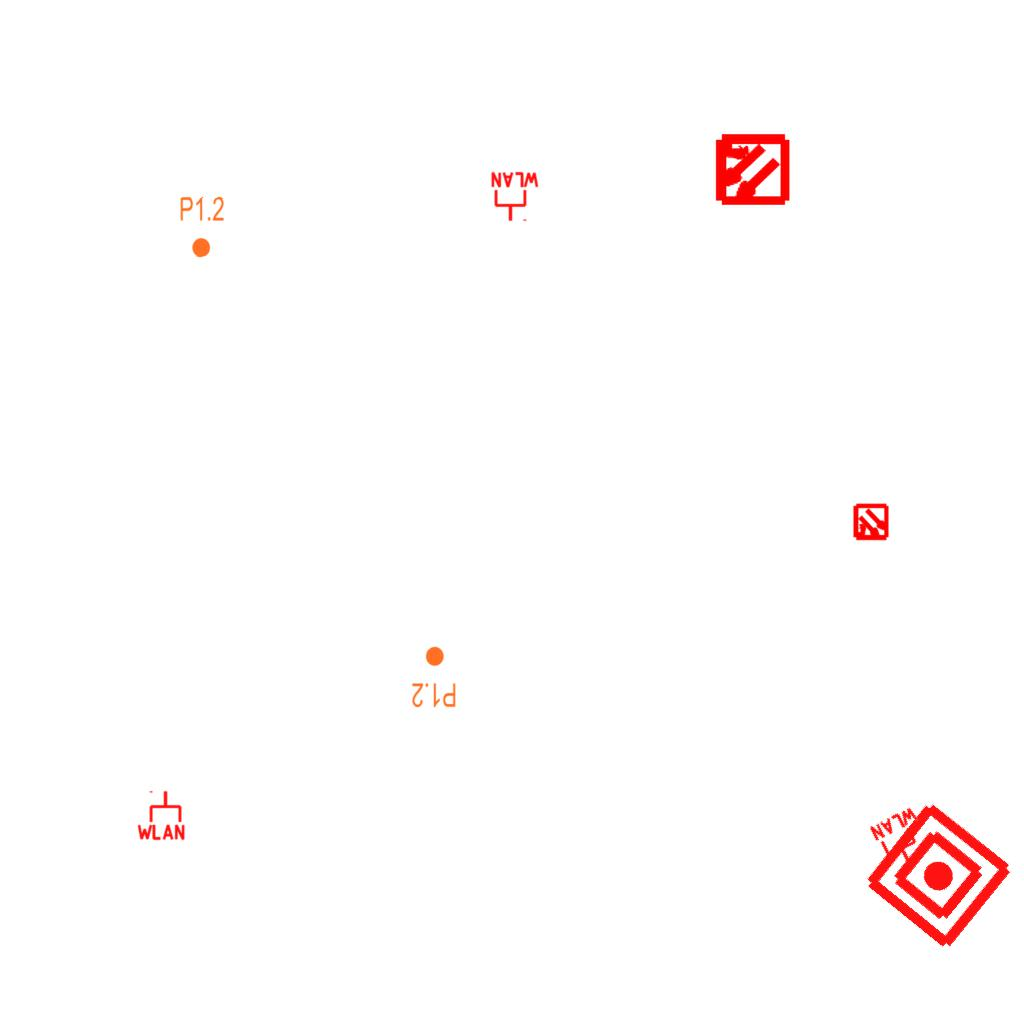Downlight_LED_Einbauleuchten_Flur: (178, 194, 226, 260), (411, 645, 457, 709)
NAM-Nichtautomatischer_Melder: (859, 796, 1018, 955)
OT_Multisensormelder_(Kombination_RMO_WMD): (694, 113, 807, 226), (843, 495, 899, 551)
WLAN: (867, 804, 937, 874), (489, 171, 541, 223), (135, 789, 187, 841)
